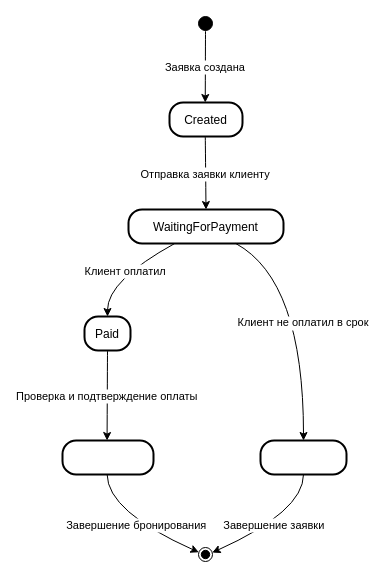
The diagram is 387 pixels wide and 578 high, and some of its shapes have lost their labels. Each missing label, with the centre of its shape:
"Cancelled" belongs at [303,457].
"Confirmed" belongs at [107,457].
